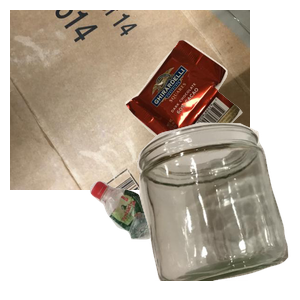cardboard: (10, 10, 250, 190)
glass: (135, 120, 300, 300)
plastic: (87, 178, 234, 300)
trash: (123, 37, 300, 192)
